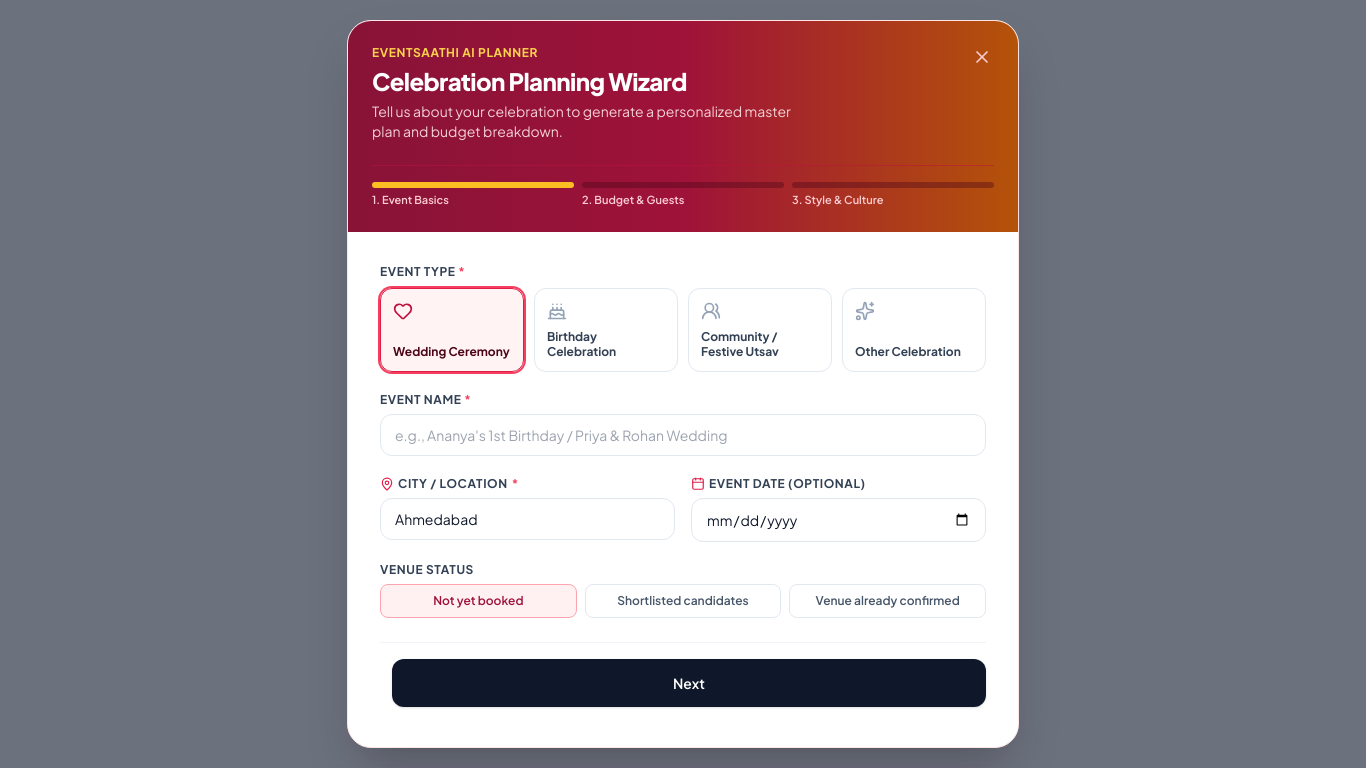
Test: EventWizard Component › renders correctly and validates required event name
Expected: the heading "Celebration Planning Wizard" is shown, [372,66,687,96]
Click the button "Next" at (689, 683), box [392,659,986,707]
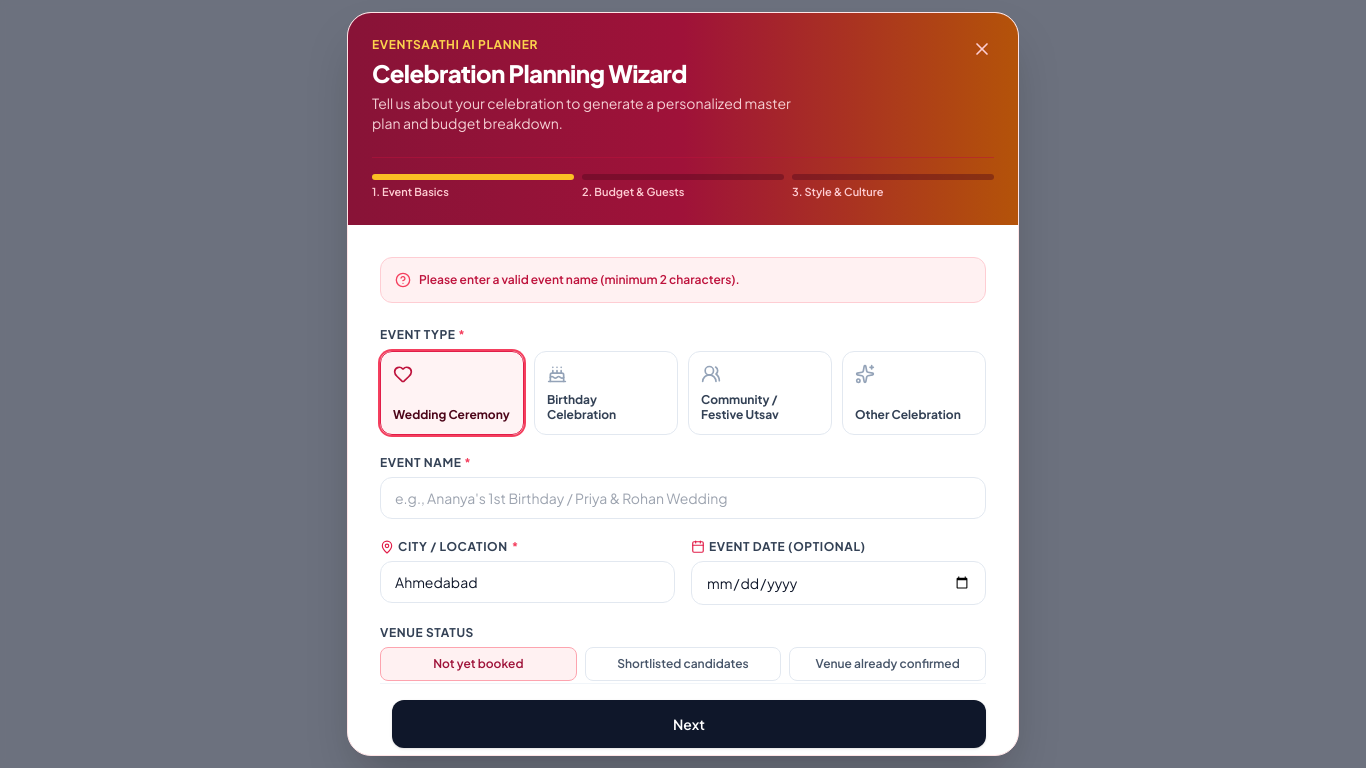
Expected: the text "Please enter a valid event name (minimum 2 characters)." is shown, [419,272,740,288]
